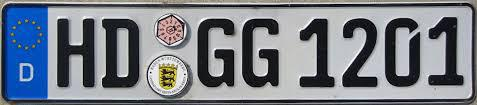0: (384, 16, 422, 88)
1: (296, 16, 338, 90), (427, 15, 465, 87)
2: (341, 17, 379, 88)
D: (100, 16, 141, 90)
G: (195, 17, 236, 90), (240, 17, 281, 89)
H: (55, 15, 97, 89)
